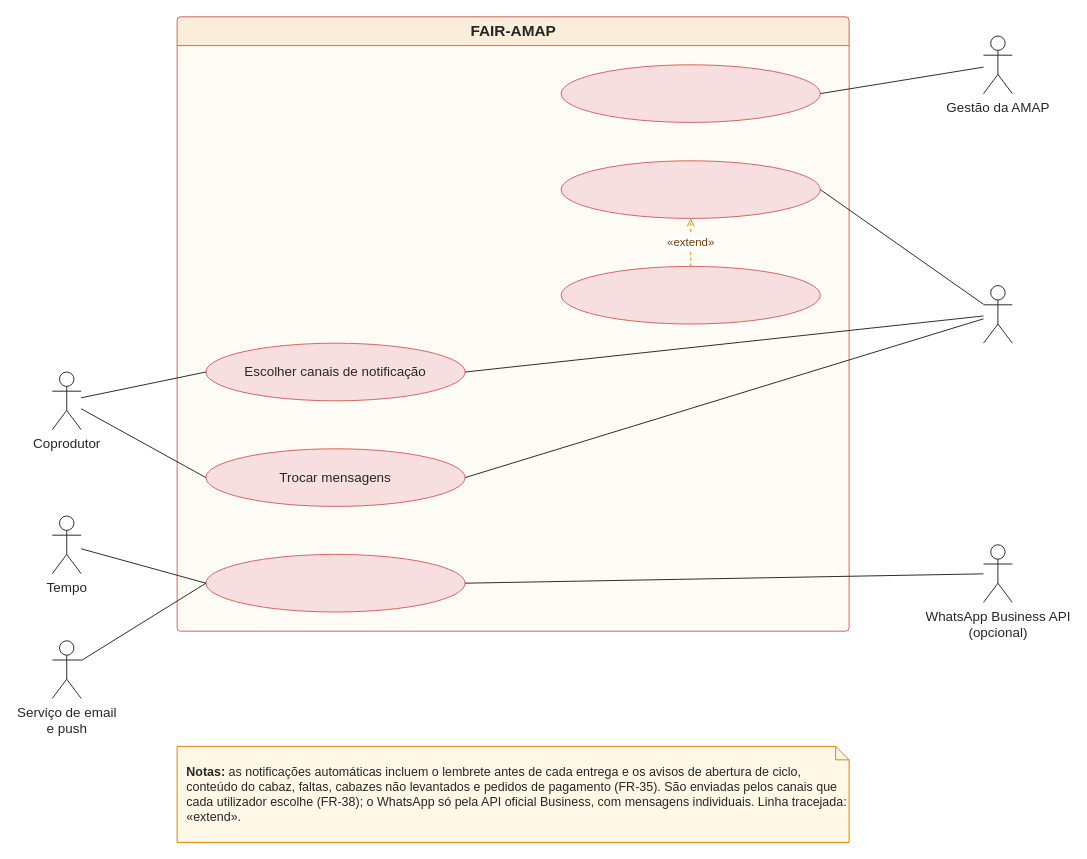
This 1087x859 diagram has some shape labels left out. The centre of each missing label's shape, as x and y in pixels:
"Enviar aviso aos membros ou a um grupo" goes at [690,93].
"Enviar notificações automáticas" goes at [335,582].
"Ligar notícia a um produto em falta" goes at [690,294].
"Produtor" goes at [997,314].
"Publicar notícias da produção" goes at [690,189].
